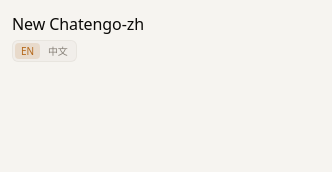
Scenario: LocaleSwitcher › switches to 中文 and marks the active option
This screenshot has width=332, height=172.
Step 1. Click the button "中文" → (58, 51), box [42,43,74,59]
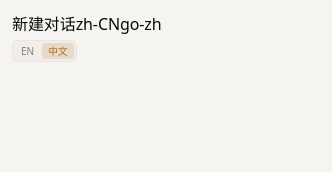
Now the text with test id "text" reads "新建对话", box [12,13,76,35]
Now the text "zh-CN" is shown, box [76,13,120,35]
Step 2. Click the button "EN" → (28, 51), box [15,43,40,59]
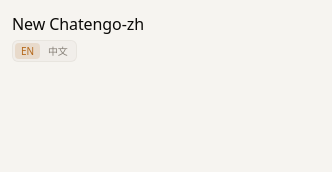
Now the text with test id "text" reads "New Chat", box [12,13,84,35]
